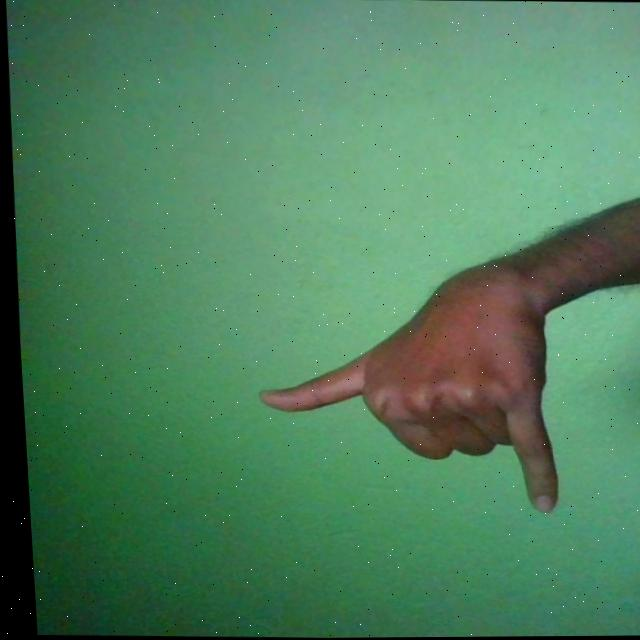Call Me: (241, 248, 557, 512)
